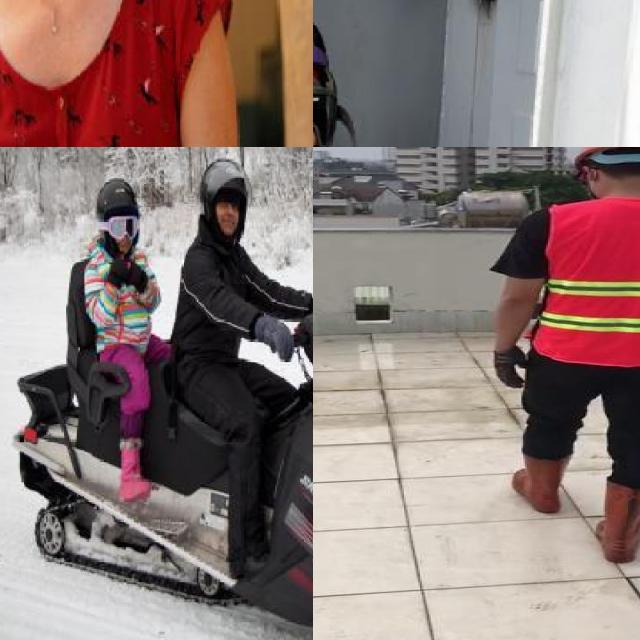boots: (592, 481, 640, 564), (509, 451, 569, 514)
face_nomask: (216, 196, 244, 234)
glasses: (313, 75, 336, 147), (94, 214, 141, 242)
hand_glove: (257, 308, 301, 363), (493, 347, 528, 387), (105, 257, 129, 288), (128, 263, 149, 290)
head_helmet: (198, 152, 255, 208), (90, 174, 144, 220), (572, 147, 640, 163)
person: (159, 147, 313, 583), (486, 147, 640, 571), (72, 167, 180, 509), (0, 0, 237, 147), (313, 3, 511, 147)
shoes: (110, 439, 154, 503)
vest: (541, 201, 640, 365)
